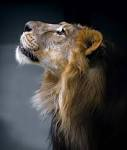lion: (14, 16, 127, 148)
